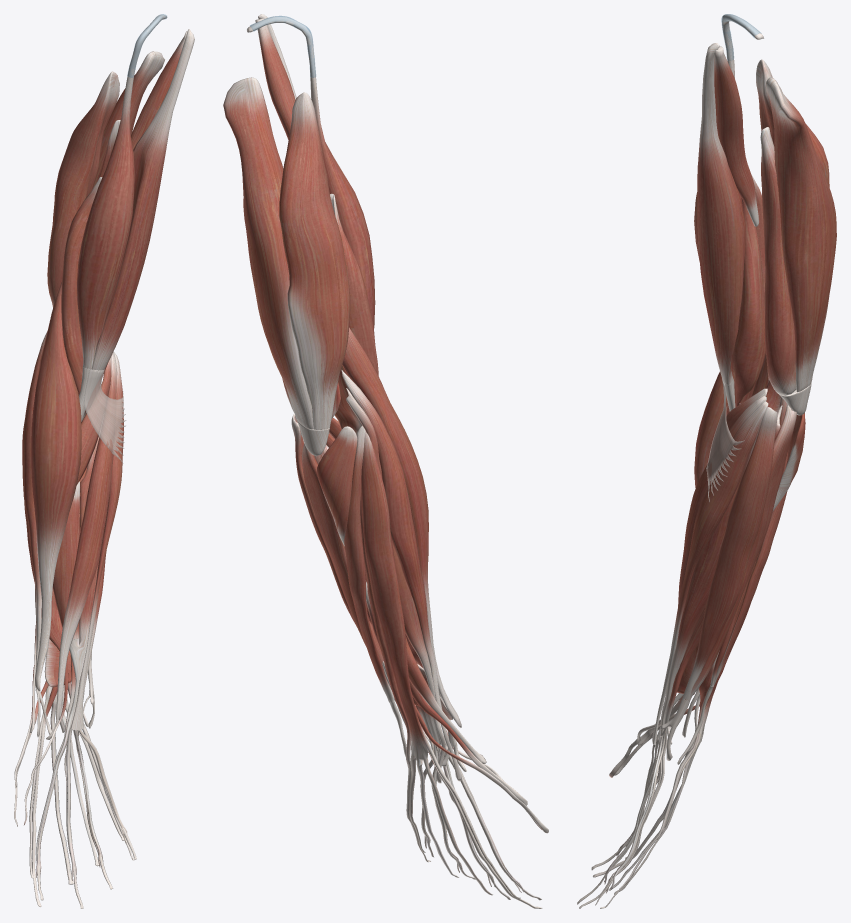
File: arm-right.glb
The picture shows the model from 3 angles, left to right: view 1: azimuth 30°, elevation 25°; view 2: azimuth 150°, elevation 25°; view 3: azimuth 270°, elevation 25°; orthographic projection. The views are drawn at different scales.
Visible parts, largest first — view 1: Brachioradialis muscle.r, Long head of biceps brachii.r, Short head of biceps brachii.r, Flexor carpi radialis.r, Lateral head of triceps brachii.r, Flexor digitorum superficialis humero-ulnar head.r, Brachialis muscle.r, Extensor digitorum.r, Palmaris longus muscle.r, Extensor carpi radialis longus.r, Bicipital aponeurosis.r, Flexor digitorum superficialis radial head.r (+9 smaller); view 2: Lateral head of triceps brachii.r, Long head of triceps brachii.r, Extensor digitorum.r, Extensor carpi radialis longus.r, Brachioradialis muscle.r, Long head of biceps brachii.r, Humeral head of extensor carpi ulnaris.r, Brachialis muscle.r, Anconeus muscle.r, Ulnar head of flexor carpi ulnaris.r, Extensor carpi radialis brevis.r, Flexor digitorum profundus.r (+8 smaller); view 3: Long head of triceps brachii.r, Short head of biceps brachii.r, Humeral head of flexor carpi ulnaris.r, Medial head of triceps brachii.r, Brachialis muscle.r, Palmaris longus muscle.r, Flexor digitorum superficialis humero-ulnar head.r, Coracobrachialis muscle.r, Ulnar head of flexor carpi ulnaris.r, Flexor digitorum profundus.r, Brachioradialis muscle.r, Flexor carpi radialis.r (+10 smaller).
Boxes of the visible parts, bbox=[...] form: Brachioradialis muscle.r: bbox=[31, 282, 81, 691]; Long head of biceps brachii.r: bbox=[76, 14, 167, 369]; Short head of biceps brachii.r: bbox=[91, 29, 194, 370]; Flexor carpi radialis.r: bbox=[46, 352, 117, 739]; Lateral head of triceps brachii.r: bbox=[47, 71, 119, 307]; Flexor digitorum superficialis humero-ulnar head.r: bbox=[36, 430, 127, 880]; Brachialis muscle.r: bbox=[61, 177, 112, 421]; Extensor digitorum.r: bbox=[22, 420, 124, 884]; Palmaris longus muscle.r: bbox=[70, 352, 123, 730]; Extensor carpi radialis longus.r: bbox=[22, 331, 47, 736]; Bicipital aponeurosis.r: bbox=[84, 369, 126, 463]; Flexor digitorum superficialis radial head.r: bbox=[52, 481, 79, 639]; Lateral head of triceps brachii.r: bbox=[279, 92, 350, 429]; Long head of triceps brachii.r: bbox=[223, 77, 313, 429]; Extensor digitorum.r: bbox=[361, 425, 520, 898]; Extensor carpi radialis longus.r: bbox=[341, 370, 461, 781]; Brachioradialis muscle.r: bbox=[342, 327, 461, 727]; Long head of biceps brachii.r: bbox=[247, 16, 375, 327]; Humeral head of extensor carpi ulnaris.r: bbox=[344, 425, 394, 702]; Brachialis muscle.r: bbox=[330, 193, 378, 439]; Anconeus muscle.r: bbox=[317, 426, 357, 545]; Ulnar head of flexor carpi ulnaris.r: bbox=[302, 444, 396, 704]; Extensor carpi radialis brevis.r: bbox=[346, 388, 445, 783]; Flexor digitorum profundus.r: bbox=[344, 547, 541, 900]; Long head of triceps brachii.r: bbox=[766, 77, 836, 392]; Short head of biceps brachii.r: bbox=[697, 43, 745, 384]; Humeral head of flexor carpi ulnaris.r: bbox=[683, 407, 777, 699]; Medial head of triceps brachii.r: bbox=[760, 127, 796, 395]; Brachialis muscle.r: bbox=[731, 174, 765, 406]; Palmaris longus muscle.r: bbox=[652, 401, 768, 744]; Flexor digitorum superficialis humero-ulnar head.r: bbox=[604, 431, 758, 893]; Coracobrachialis muscle.r: bbox=[714, 46, 758, 226]; Ulnar head of flexor carpi ulnaris.r: bbox=[685, 404, 796, 700]; Flexor digitorum profundus.r: bbox=[577, 609, 704, 908]; Brachioradialis muscle.r: bbox=[694, 372, 756, 487]; Flexor carpi radialis.r: bbox=[667, 396, 766, 744].
Size of the model in its own units: 0.1978 by 0.6956 by 0.1688.
5 materials, 4 textured.
